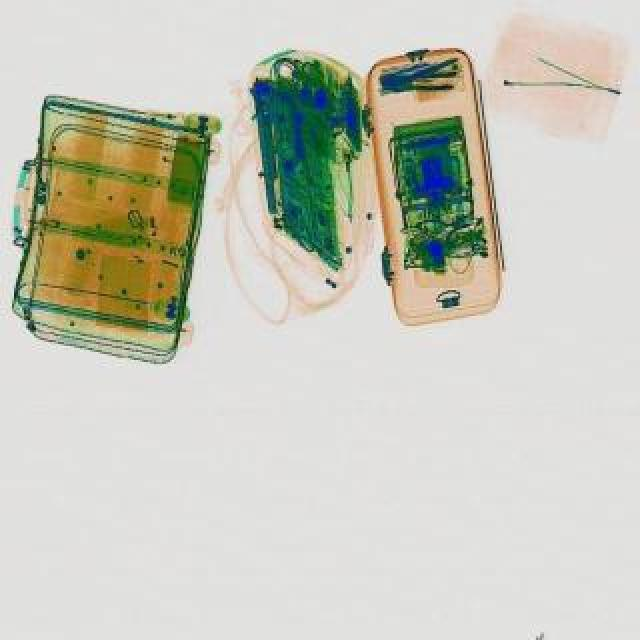wrench: (412, 204, 482, 260), (382, 74, 458, 98)
